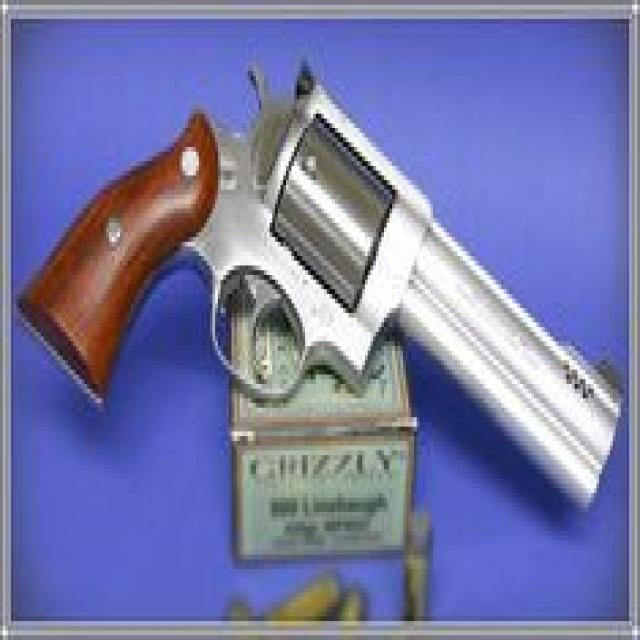revolver: (11, 42, 626, 532)
